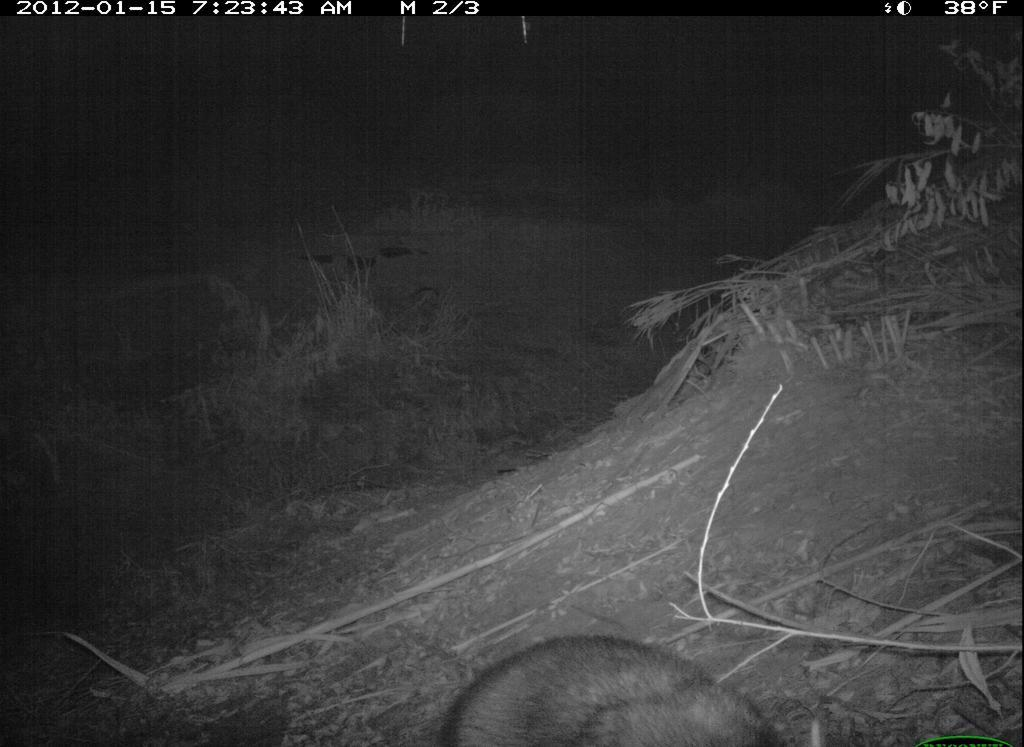raccoon: (429, 623, 816, 747)
